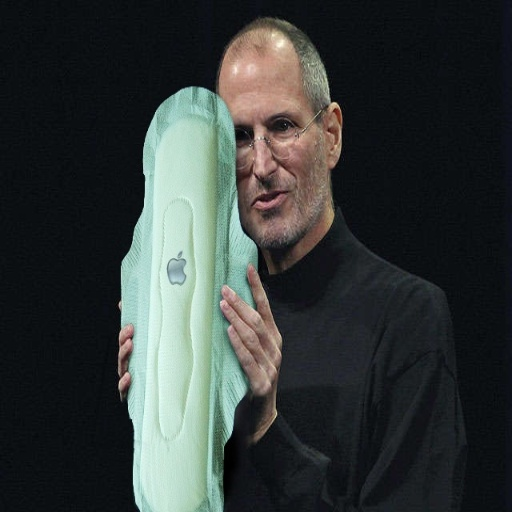hand: (219, 261, 284, 435), (116, 300, 134, 403)
